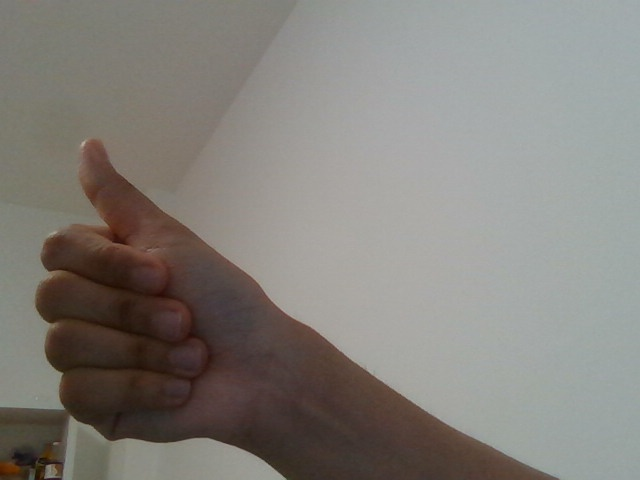Thumbs up: (17, 133, 327, 453)
